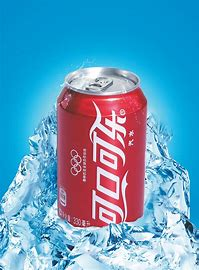Coke: (57, 67, 147, 230)
